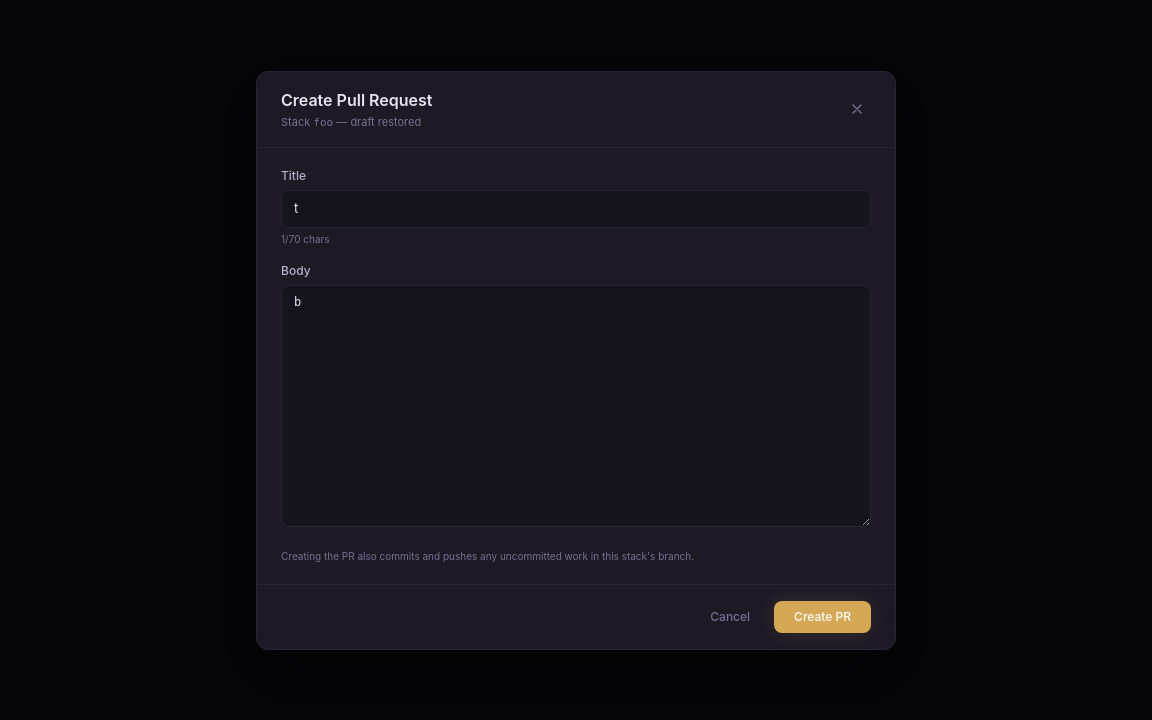
Test: CreatePRDialog › surfaces an error from pr.create and stays open
The width and height of the screenshot is (1152, 720).
Click the button with test id "pr-create" at x=823, y=616, box [774,600,871,632]
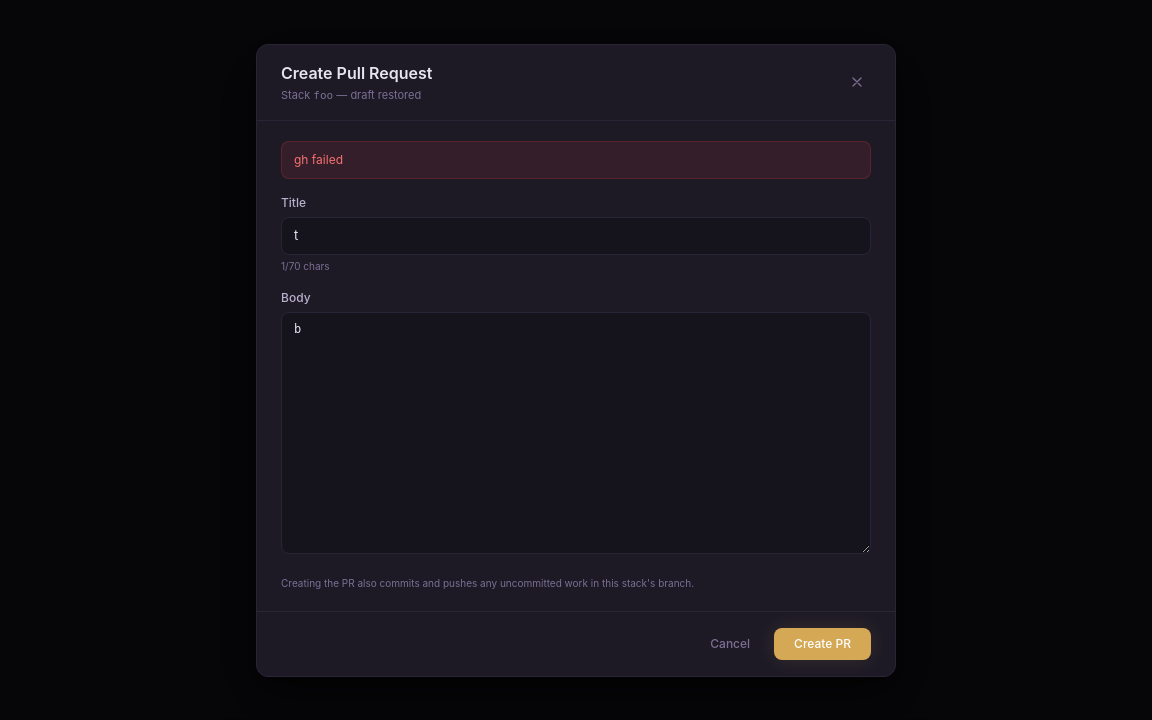
Expected: the text with test id "pr-error" reads "gh failed", [294,152,343,167]
